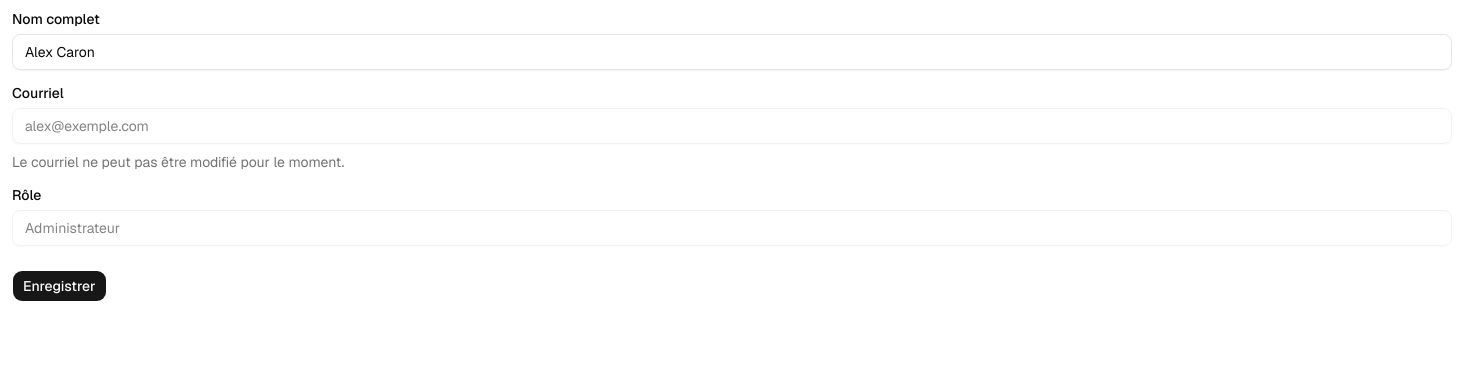
Test: ProfileNameForm › affiche l'erreur retournée par l'action dans le formulaire
Click the button "Enregistrer" at point(59, 286), box [12,270,106,302]
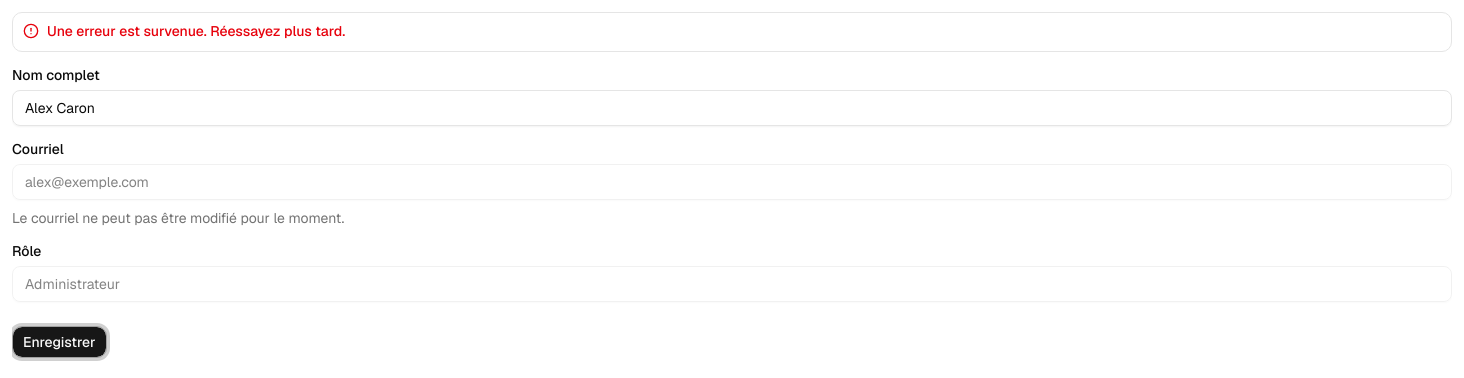
Expected: the message reads "Une erreur est survenue. Réessayez plus tard.", [47,22,345,40]
